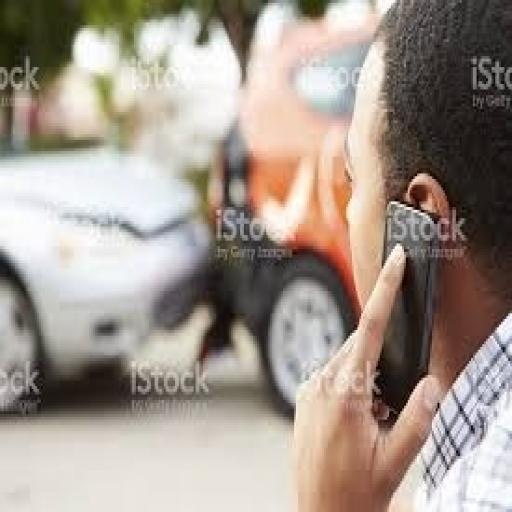calling: (289, 0, 510, 509)
